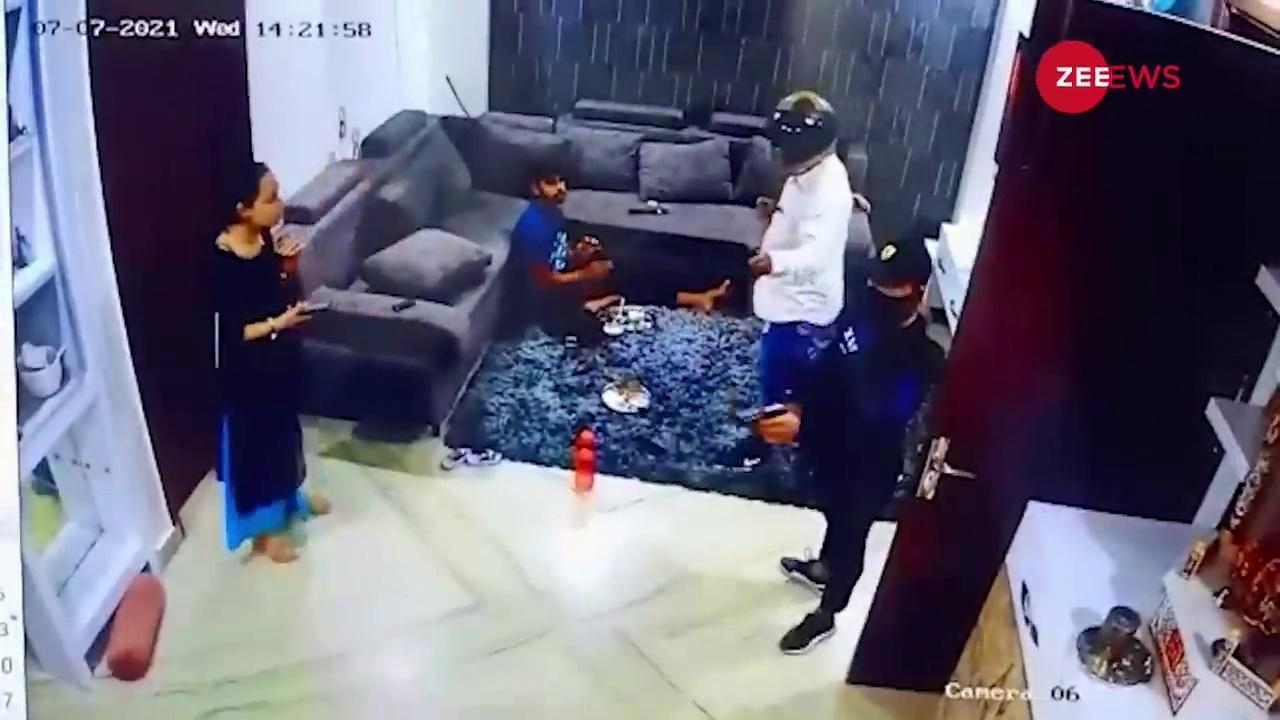weapon: (735, 397, 792, 433)
